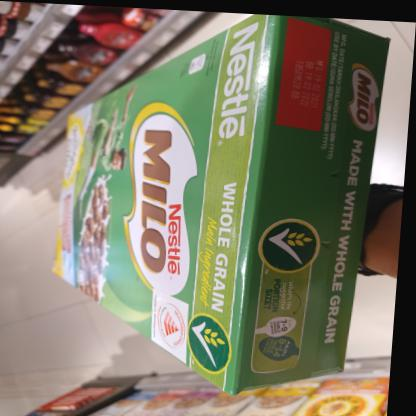i: (47, 4, 401, 399)
